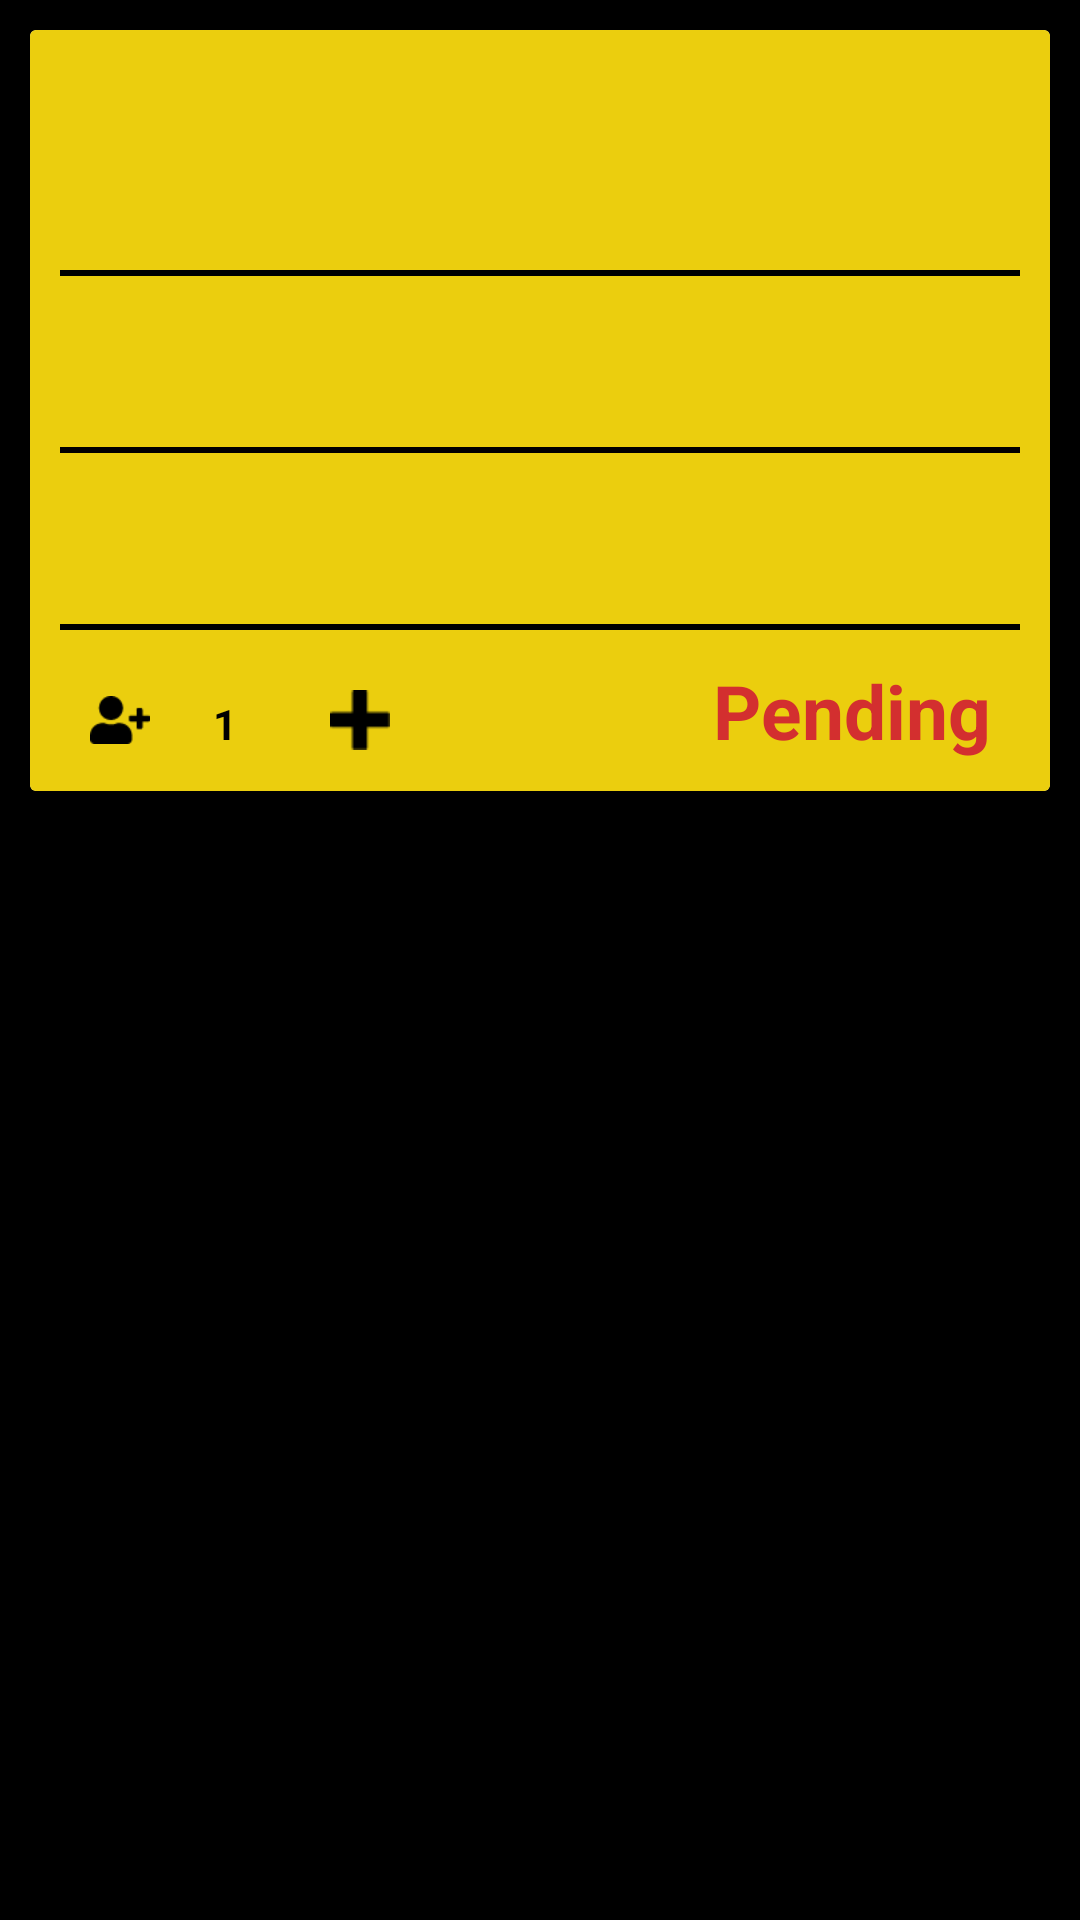

Screen size 1080 x 1920. Icon name, then its box in pixels as bbox=[x1, y1, x2, y2]:
plus: bbox=[330, 690, 390, 750]
user: bbox=[90, 696, 150, 744]
